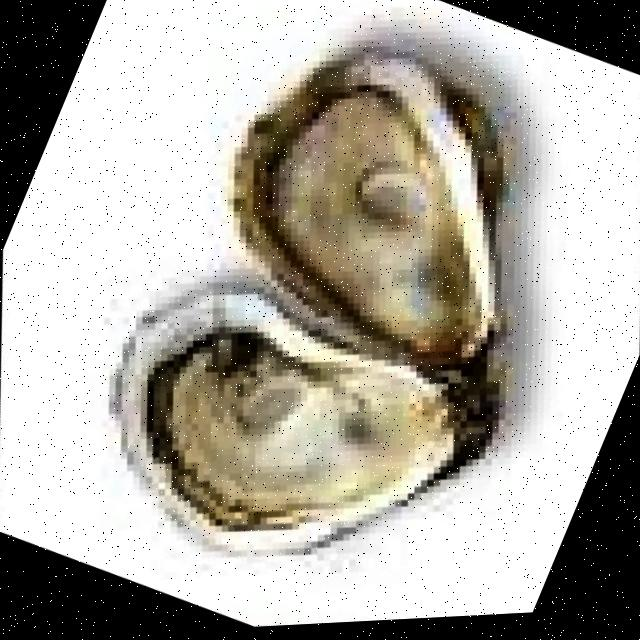Oyster-Open: (108, 274, 498, 554), (233, 47, 502, 387)
